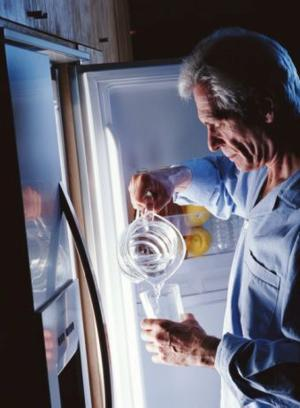person: (129, 32, 300, 407)
